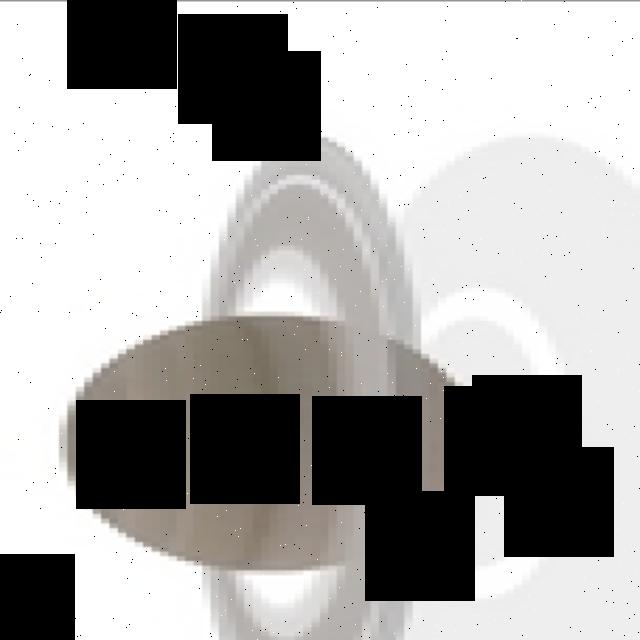Saturn: (51, 132, 480, 640)
